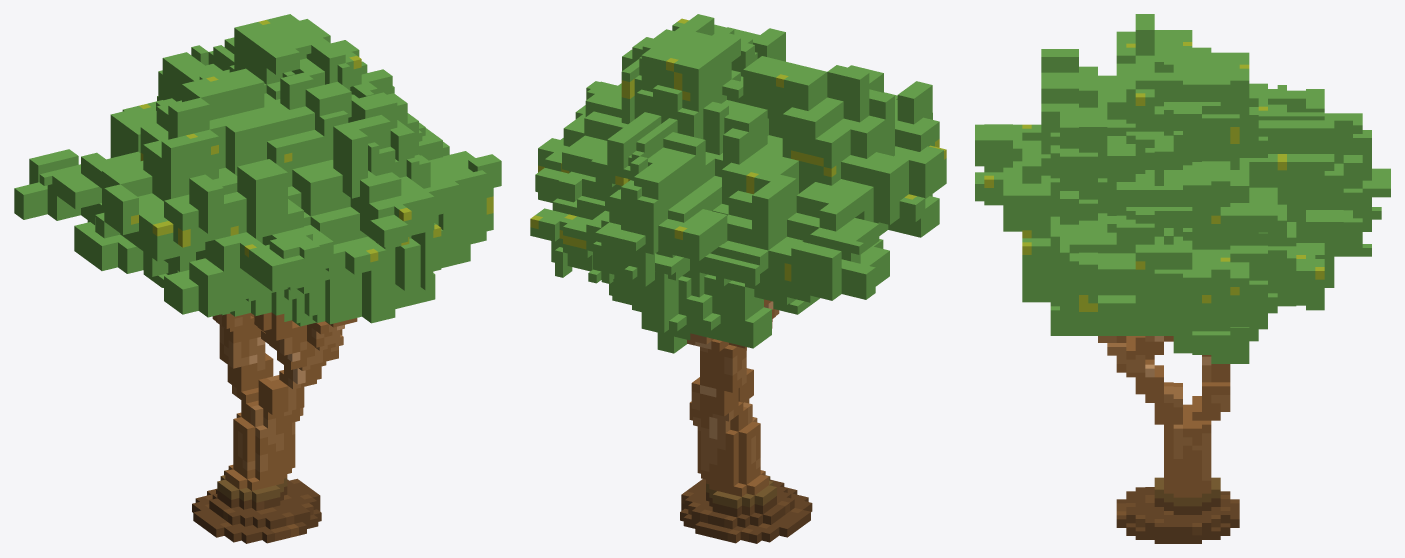
File: 1_3 pit.obj
3 views of the same model, side by side, from view 1: azimuth 30°, elevation 25°; view 2: azimuth 150°, elevation 25°; view 3: azimuth 270°, elevation 25° (orthographic). The views are drawn at different scales.
Bounding box in the file's own units: 4.7 × 5.5 × 4.4.
Materials: 1 (1 with a texture image).
